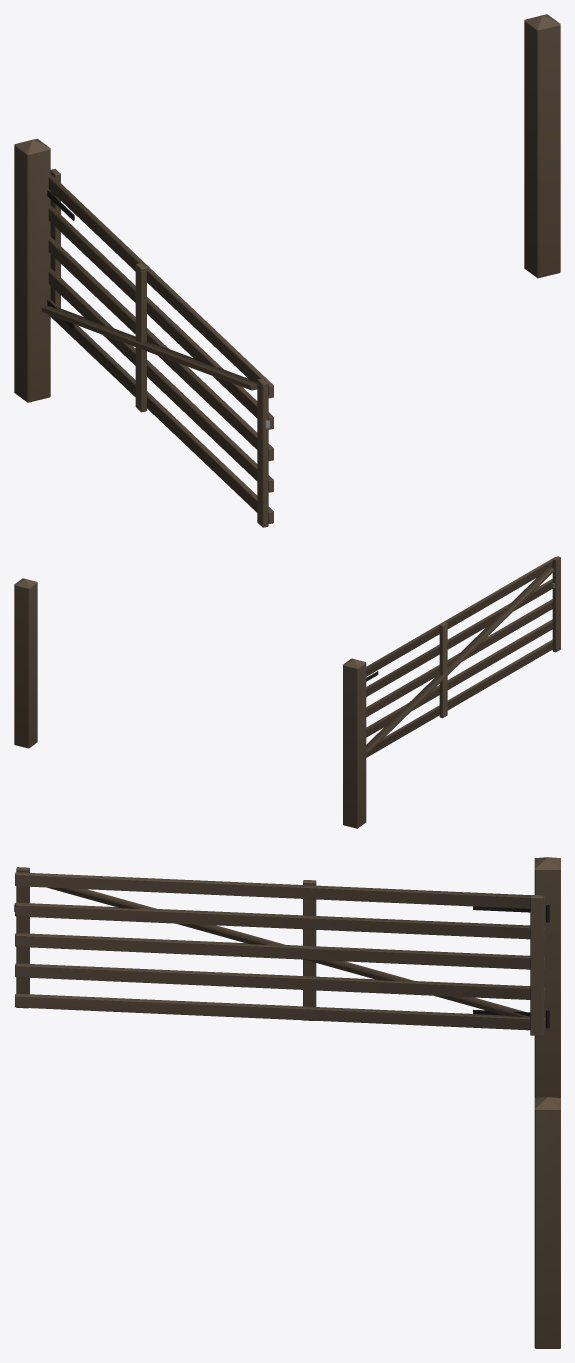
File: boat_launch_gate.glb
3 views of the same model, one above another, from view 1: azimuth 30°, elevation 25°; view 2: azimuth 150°, elevation 25°; view 3: azimuth 270°, elevation 25° (orthographic). The views are drawn at different scales.
Visible parts, largest first — view 1: boat_launch_gate_leaf_LOD0, boat_launch_gate_posts_LOD0; view 2: boat_launch_gate_leaf_LOD0, boat_launch_gate_posts_LOD0; view 3: boat_launch_gate_leaf_LOD0, boat_launch_gate_posts_LOD0.
Part boxes in pixels (left/top/right/bottom): boat_launch_gate_leaf_LOD0: left=41, top=169, right=273, bottom=527; boat_launch_gate_posts_LOD0: left=14, top=14, right=560, bottom=402; boat_launch_gate_leaf_LOD0: left=366, top=556, right=560, bottom=757; boat_launch_gate_posts_LOD0: left=14, top=578, right=366, bottom=828; boat_launch_gate_leaf_LOD0: left=14, top=867, right=544, bottom=1035; boat_launch_gate_posts_LOD0: left=534, top=857, right=560, bottom=1348.
Size of what is drawn, in the model's own units: 4.34 by 1.87 by 3.76.
